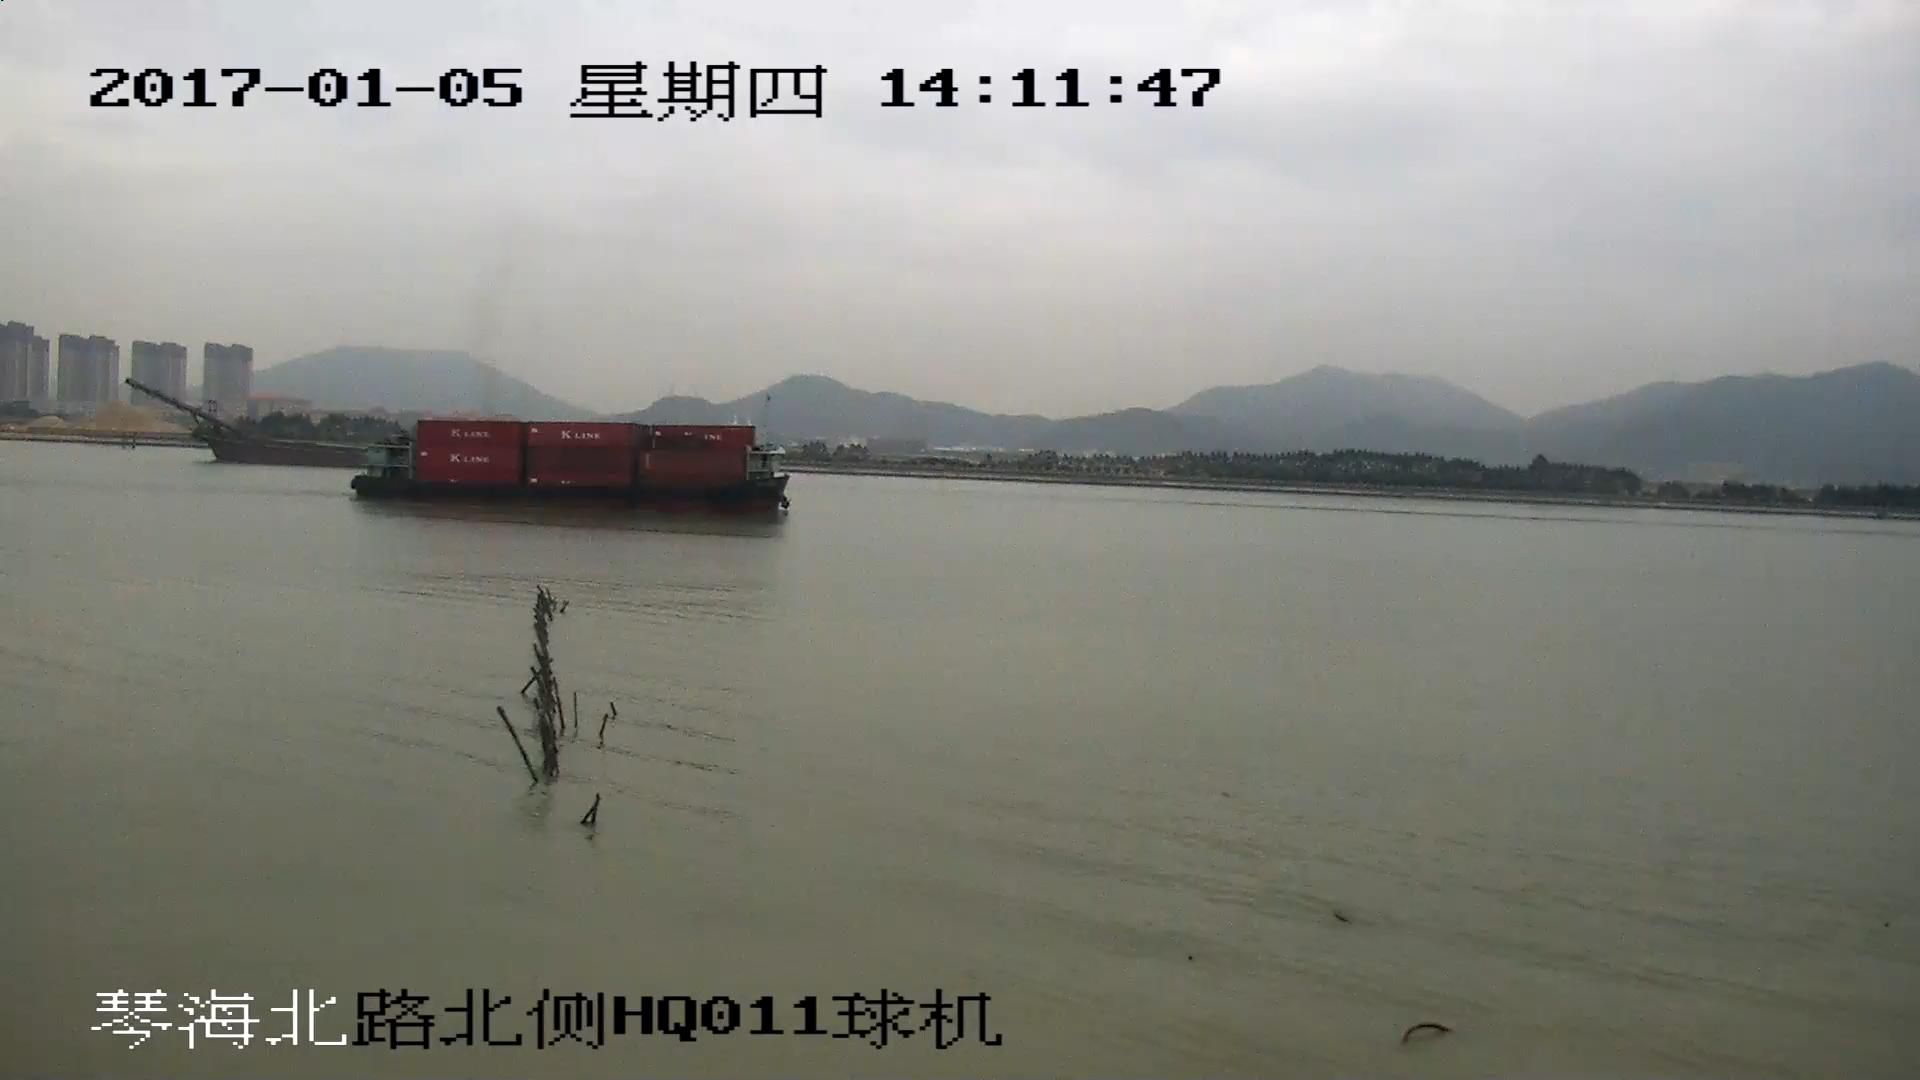bulk cargo carrier: (124, 382, 353, 466)
container ship: (353, 423, 788, 518)
